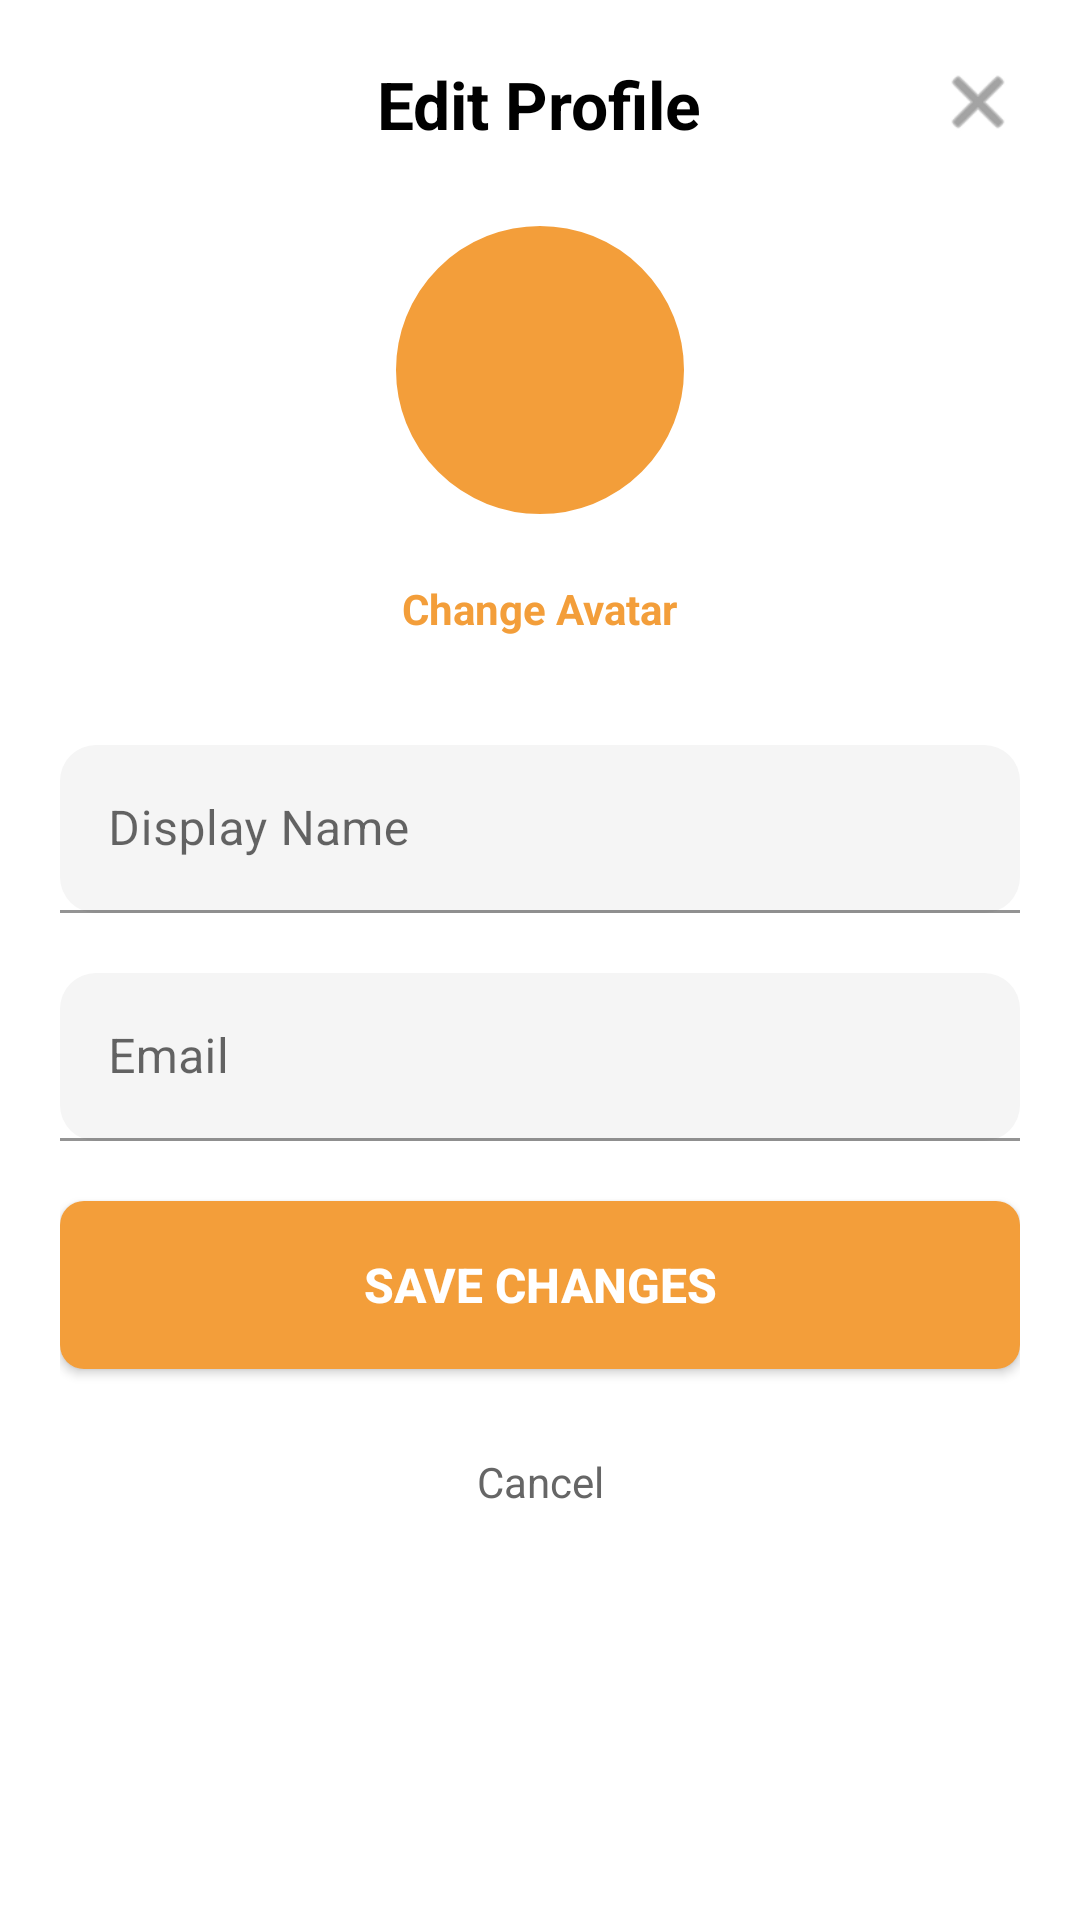

Locate icon controls on the screen. Image size 1080px x 1920px, boxes as (x1, y1, x2, y2).
close clear cancel: (952, 76, 1004, 128)
